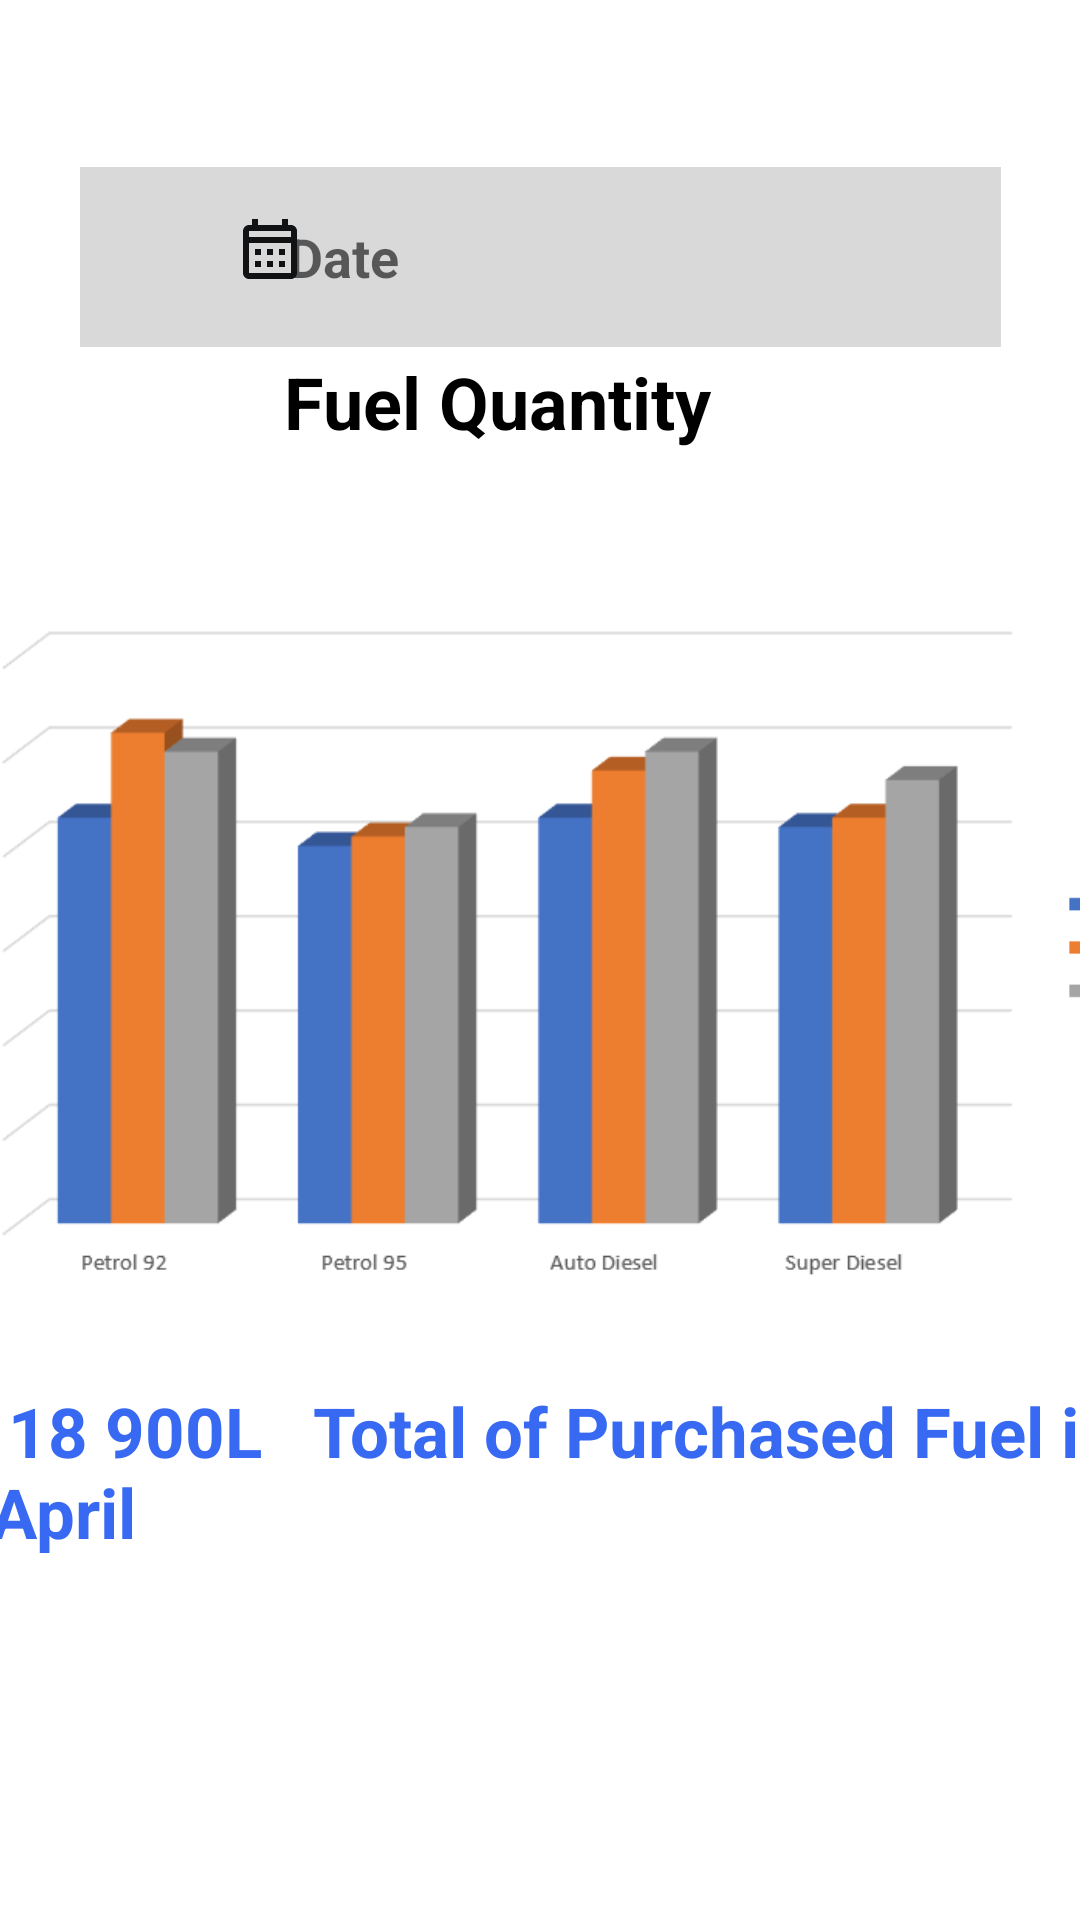

Named icons in this screenshot (1080×1920) and their bounding boxes, (x1, y1, x2, y2):
calendar month: (243, 219, 306, 279)
